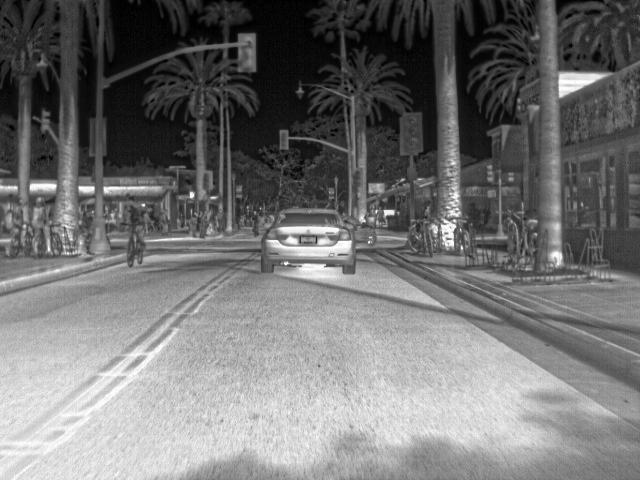car: (258, 206, 354, 276), (353, 222, 377, 245)
person: (27, 196, 52, 258), (127, 205, 143, 239), (20, 198, 27, 254), (185, 214, 198, 237), (374, 204, 385, 230), (159, 208, 170, 234), (144, 207, 154, 235), (198, 212, 208, 238), (251, 208, 258, 223)
